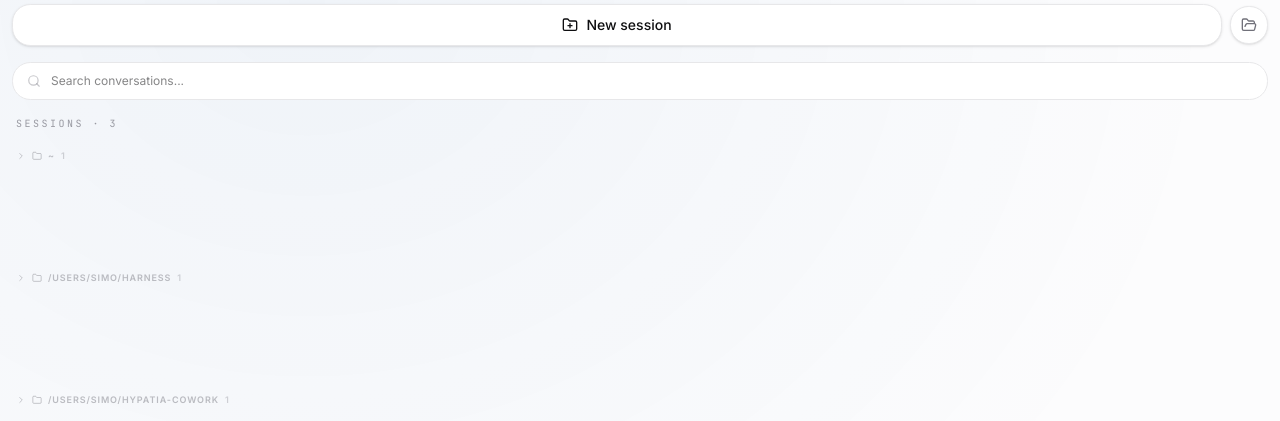
Scenario: ConversationSearch — folder grouping › collapses a group's sessions when its header is clicked
Click the text "/Users/simo/harness" at (110,278), box [48, 271, 171, 284]
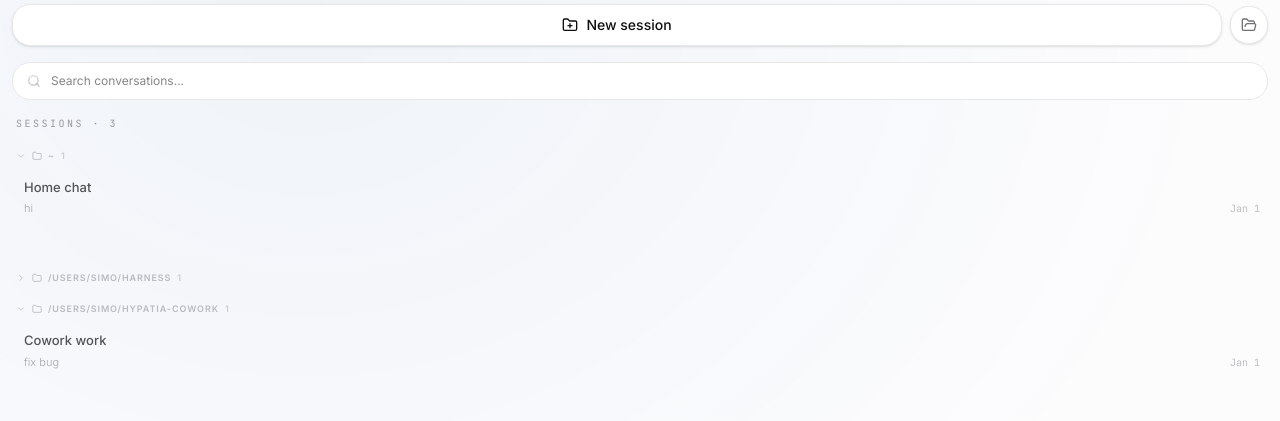
Expected: the text "Cowork work" is shown, [24, 332, 106, 350]
